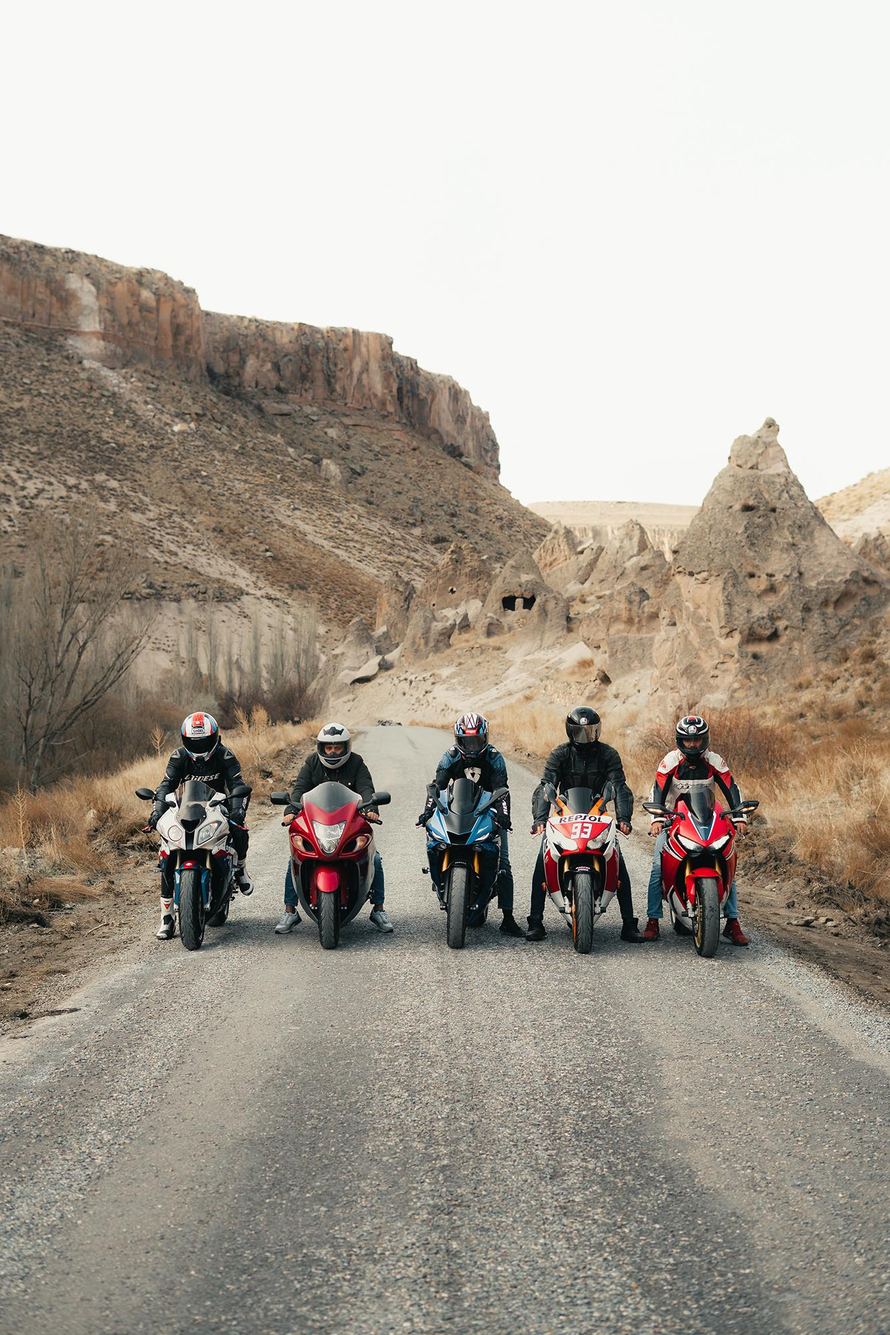helmet: (180, 711, 222, 768), (453, 711, 490, 765), (674, 715, 712, 765), (565, 705, 602, 756), (316, 722, 353, 770)
